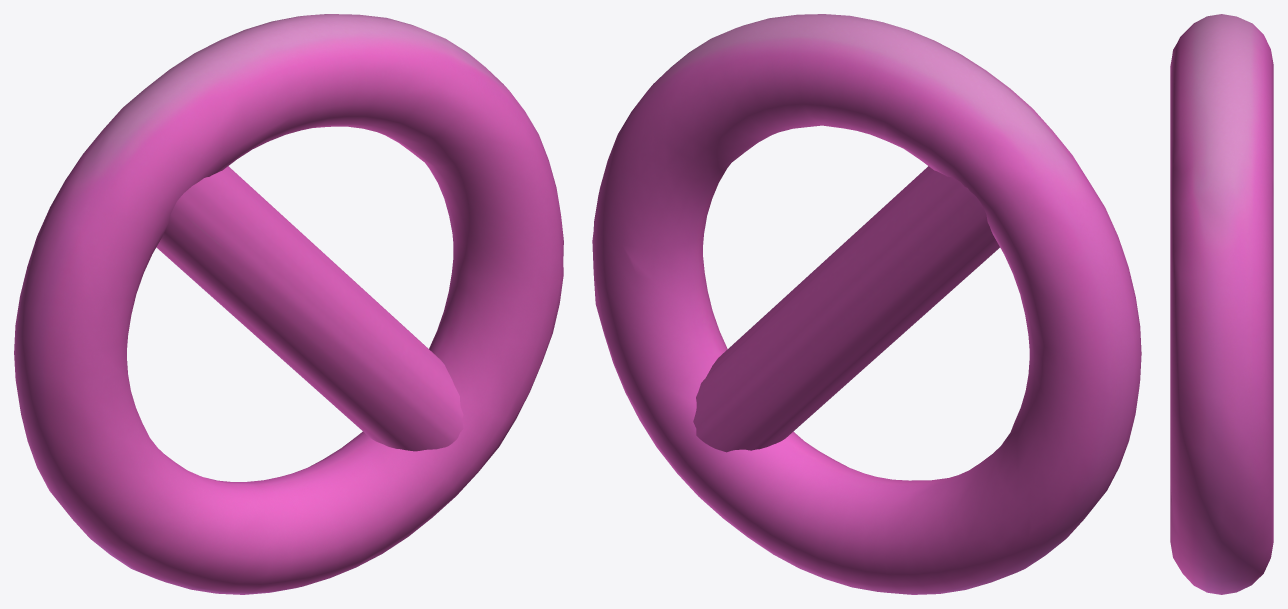
The model's file is no_sign.glb.
The picture shows the model from 3 angles, left to right: view 1: azimuth 30°, elevation 25°; view 2: azimuth 150°, elevation 25°; view 3: azimuth 270°, elevation 25°; orthographic projection. The views are drawn at different scales.
Bounding box in the file's own units: 0.9521 × 0.9512 × 0.1685.
Materials: 1 (1 with a texture image).
